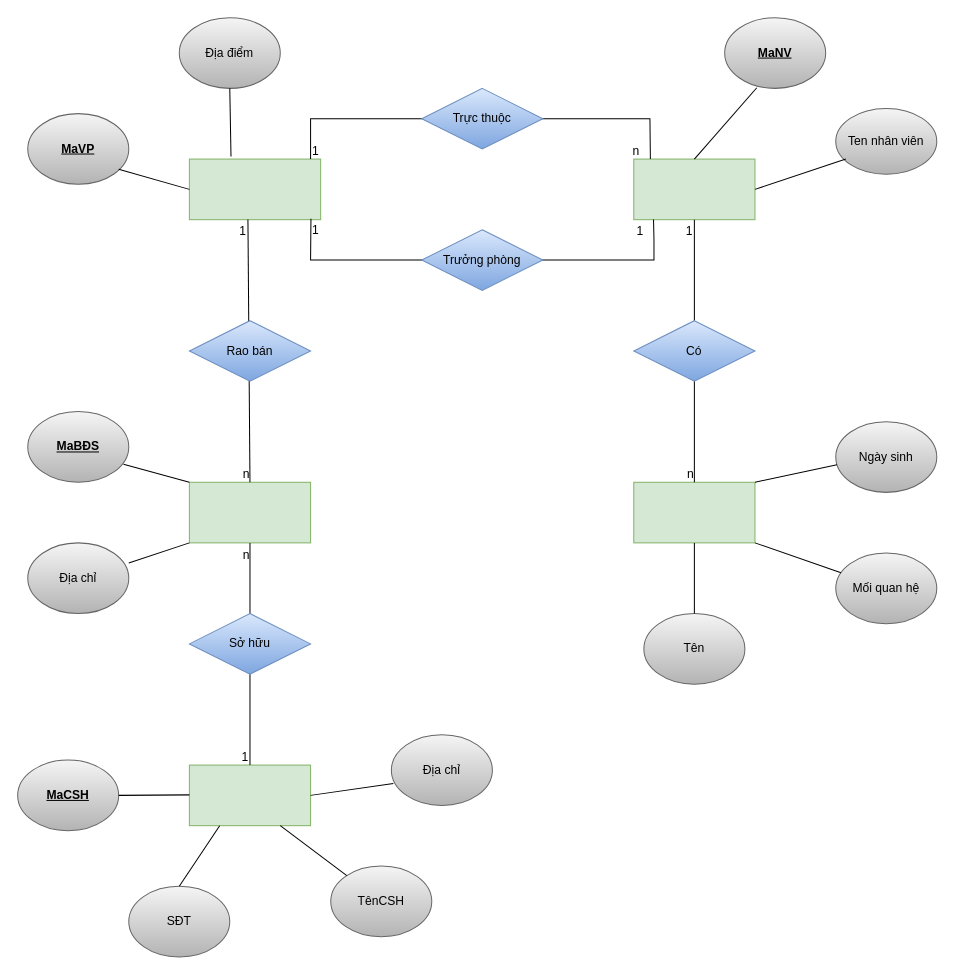
This 954x975 diagram has some shape labels left out. Here are the shapes that lost their labels. From the top down, the centre of each, then its label:
At (x=254, y=189): "Văn phòng".
At (x=694, y=189): "NhanVien".
At (x=249, y=512): "Bất động sản".
At (x=694, y=512): "Nhân thân".
At (x=249, y=795): "Chủ sở hữu".
